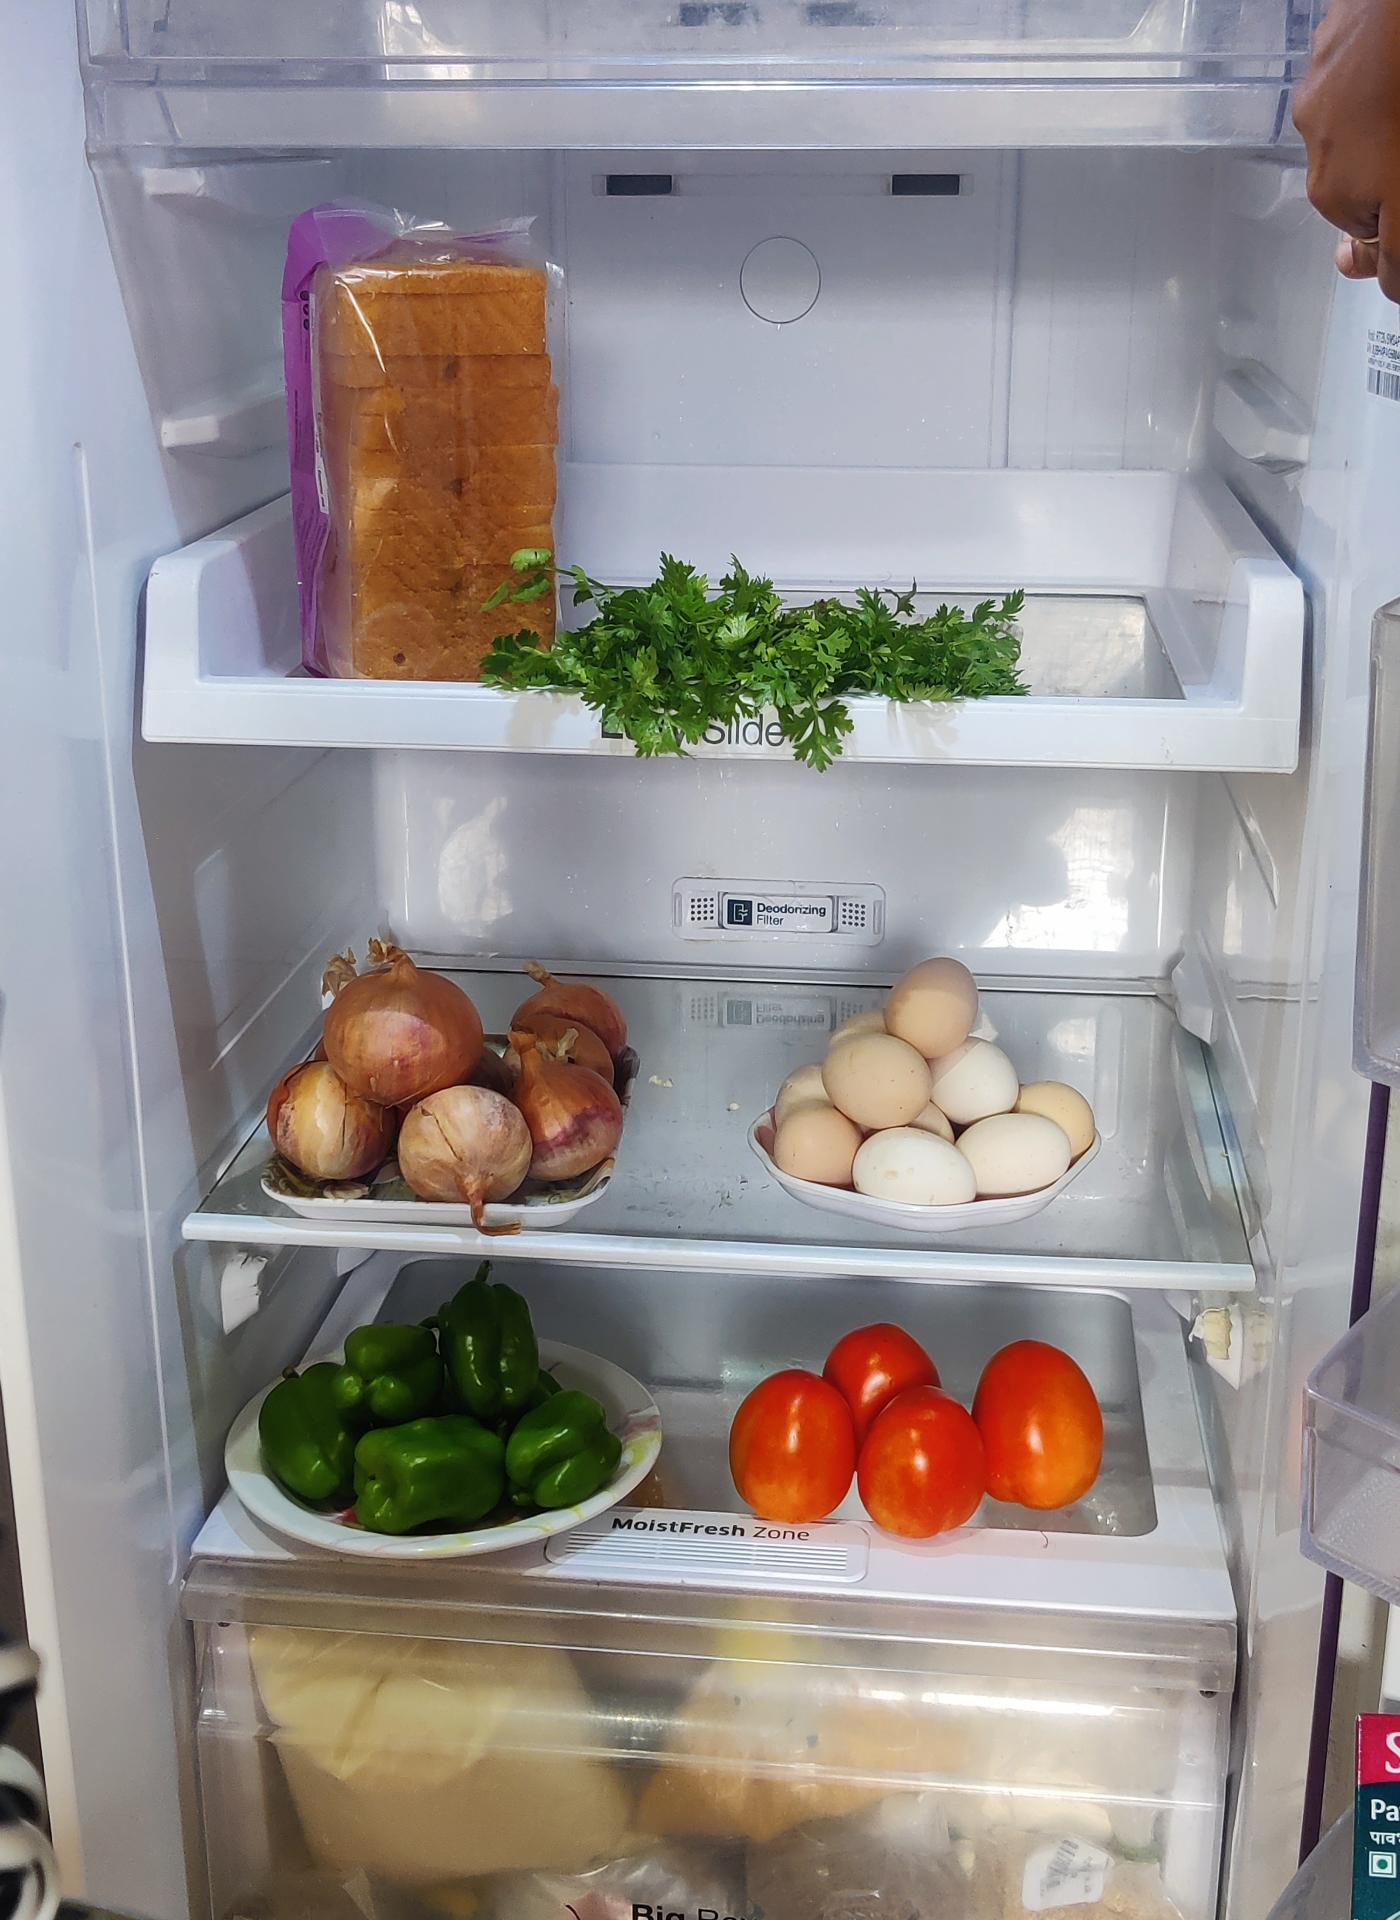bread: (283, 209, 573, 668)
capsicum: (258, 1285, 637, 1543)
coriander: (573, 555, 1029, 729)
egg: (759, 951, 1099, 1203)
onion: (268, 930, 641, 1201)
tomato: (732, 1324, 1112, 1541)
